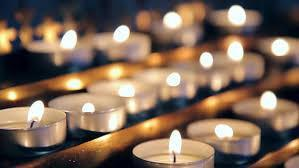fire: (166, 122, 192, 162), (106, 19, 134, 49), (54, 27, 81, 55), (208, 119, 238, 144), (23, 98, 48, 126), (111, 79, 141, 99), (225, 41, 249, 66), (253, 92, 281, 113), (193, 49, 217, 73), (270, 36, 294, 59), (163, 68, 185, 89), (79, 99, 96, 115)
